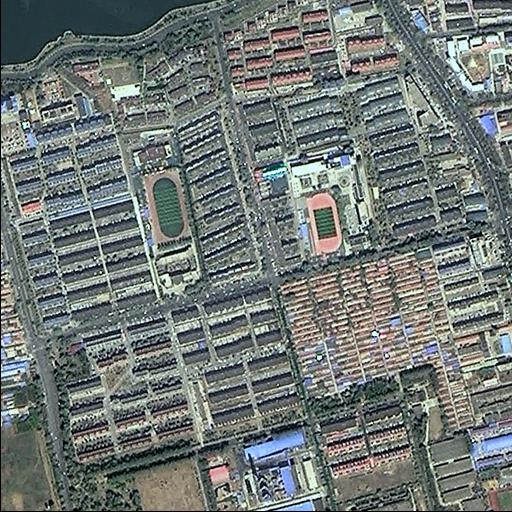school: (286, 148, 378, 258), (131, 162, 202, 303)
